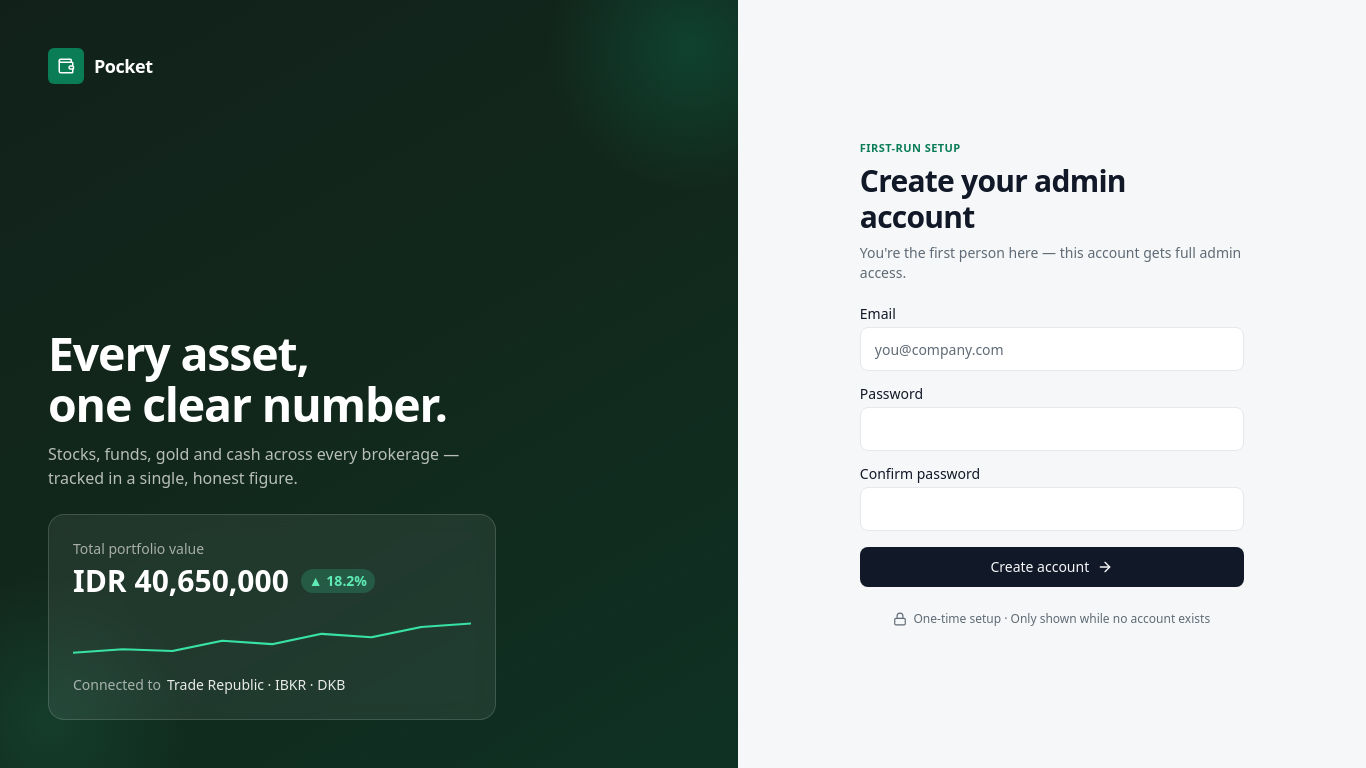
Scenario: Landing (Pocket split-hero sign-in) › first-run setup (needsSetup) › shows setupAlreadyDone when the API returns 409
The width and height of the screenshot is (1366, 768).
Type "admin@example.com" into the field labelled "Email" at (1052, 349), box [860,327,1244,371]
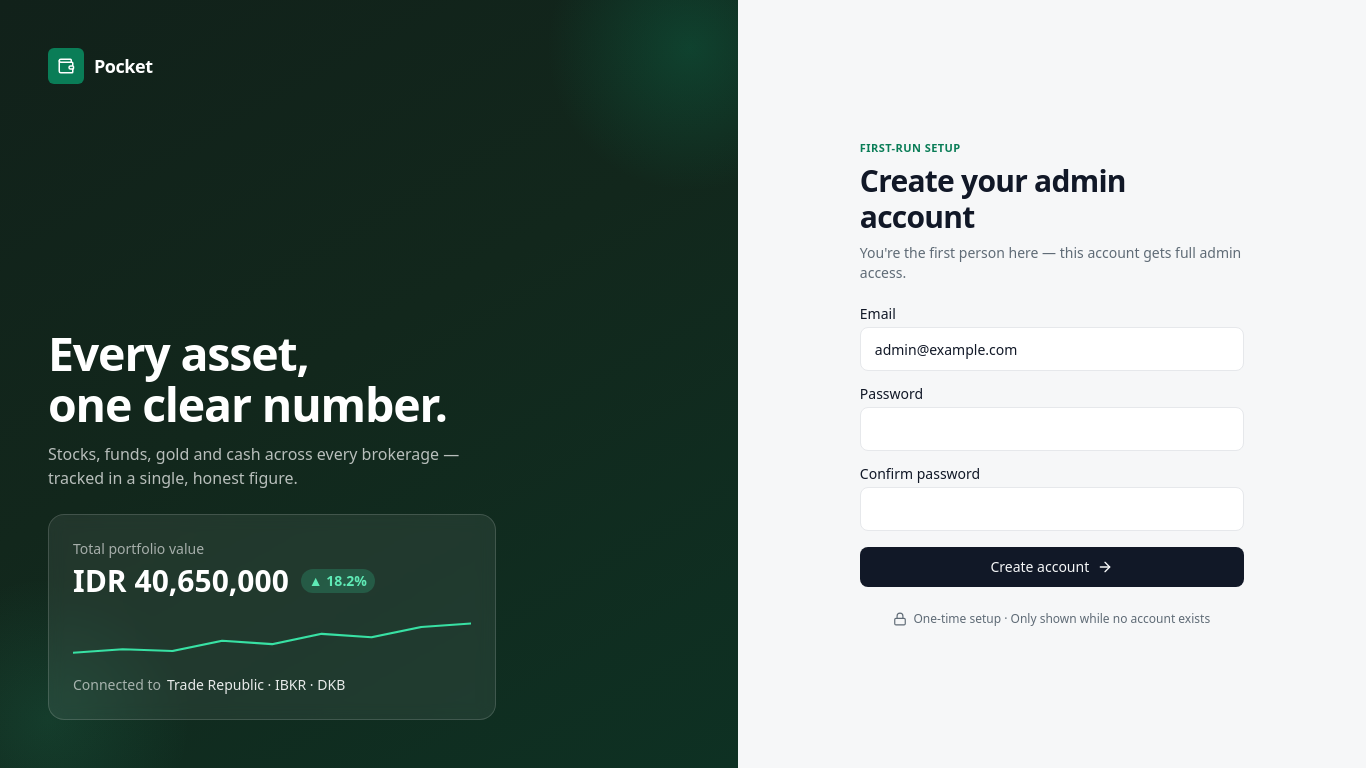
Type "bootstrap-password" into the password field labelled "Password" at (1052, 429), box [860,407,1244,451]
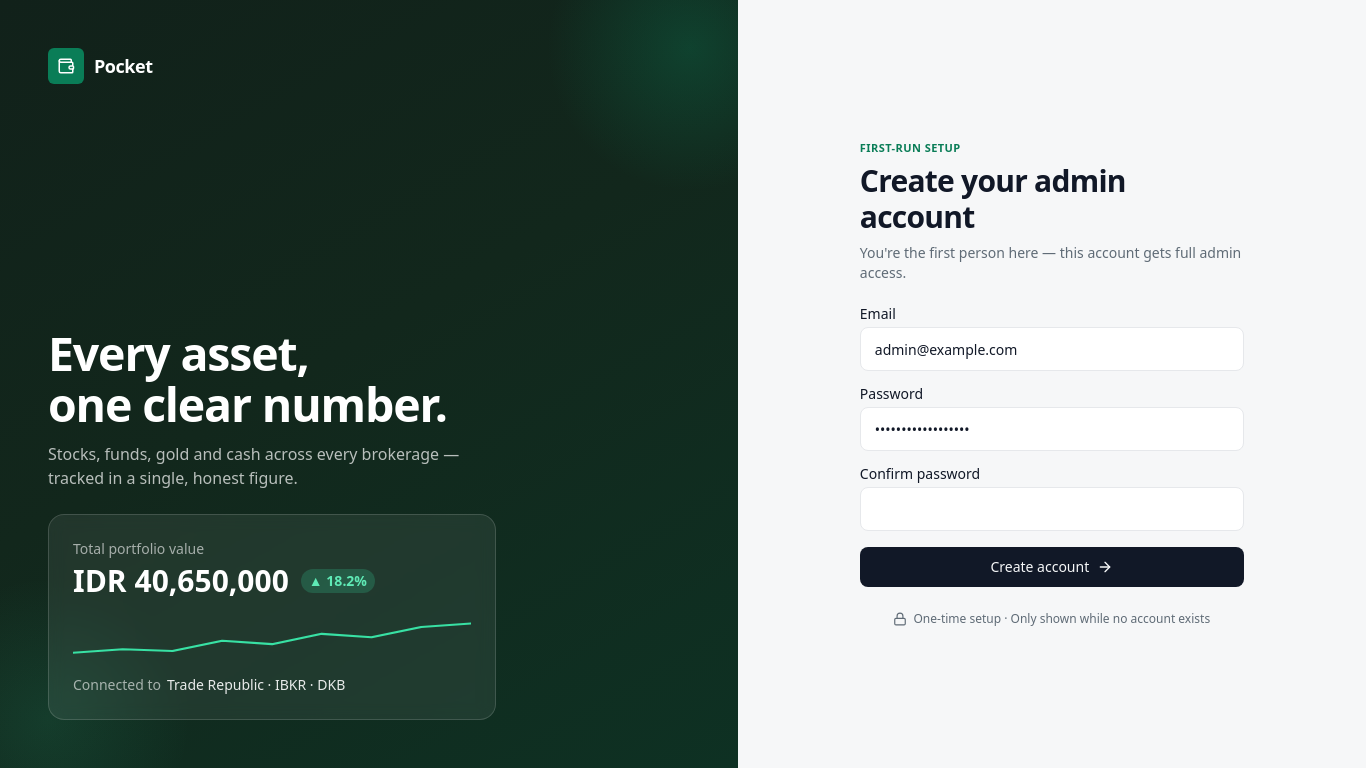
Type "bootstrap-password" into the password field labelled "Confirm password" at (1052, 509), box [860,487,1244,531]
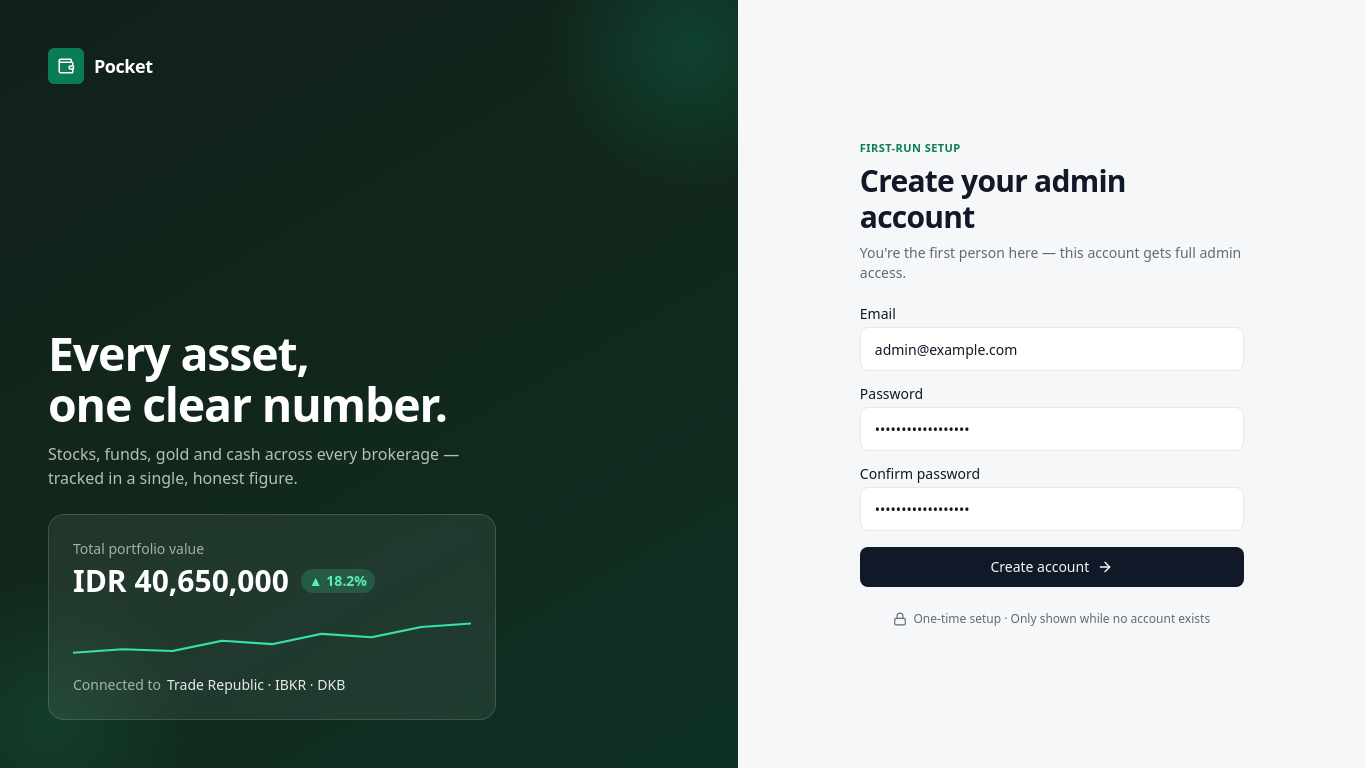
Click the button "Create account" at (1052, 567), box [860,547,1244,587]
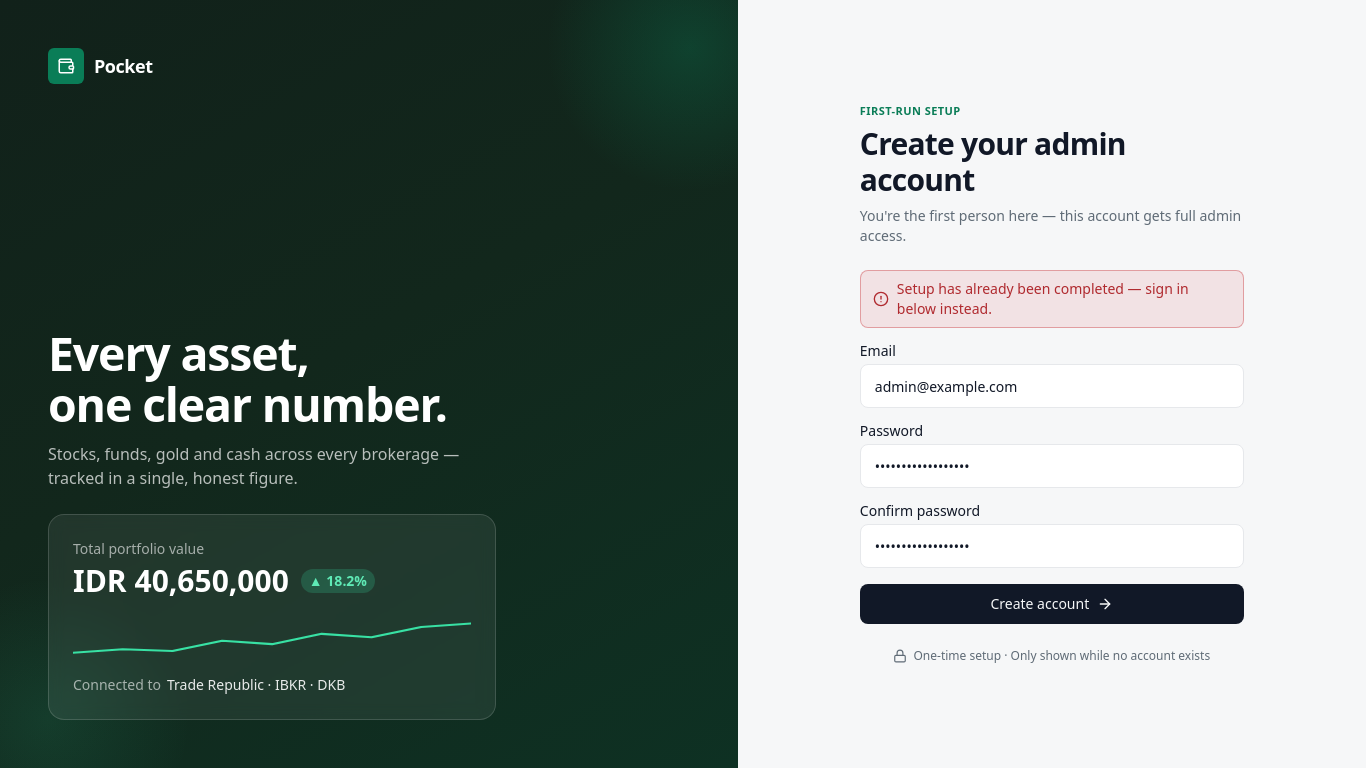
Now the message reads "Setup has already been completed — sign in below instead.", box [897,279,1189,318]
